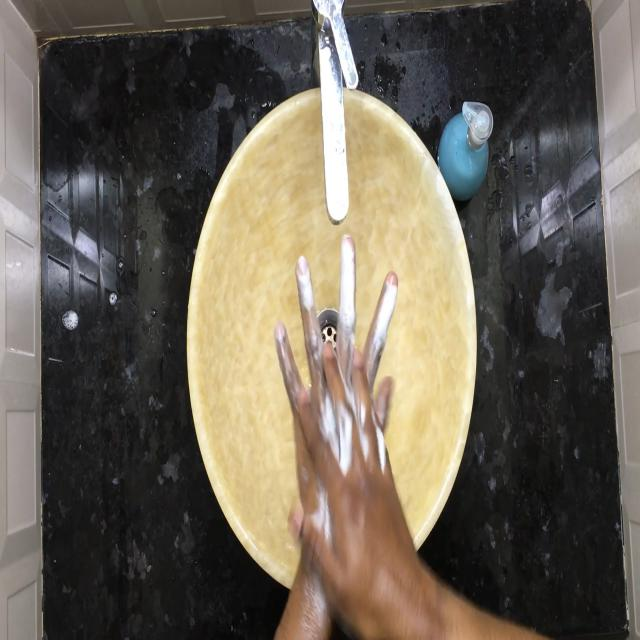step_2: (274, 225, 407, 512)
